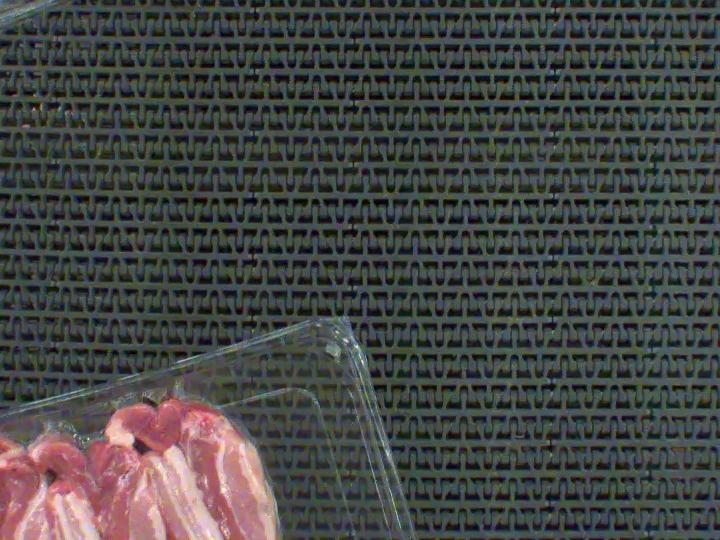packaging-error: (0, 326, 216, 492)
